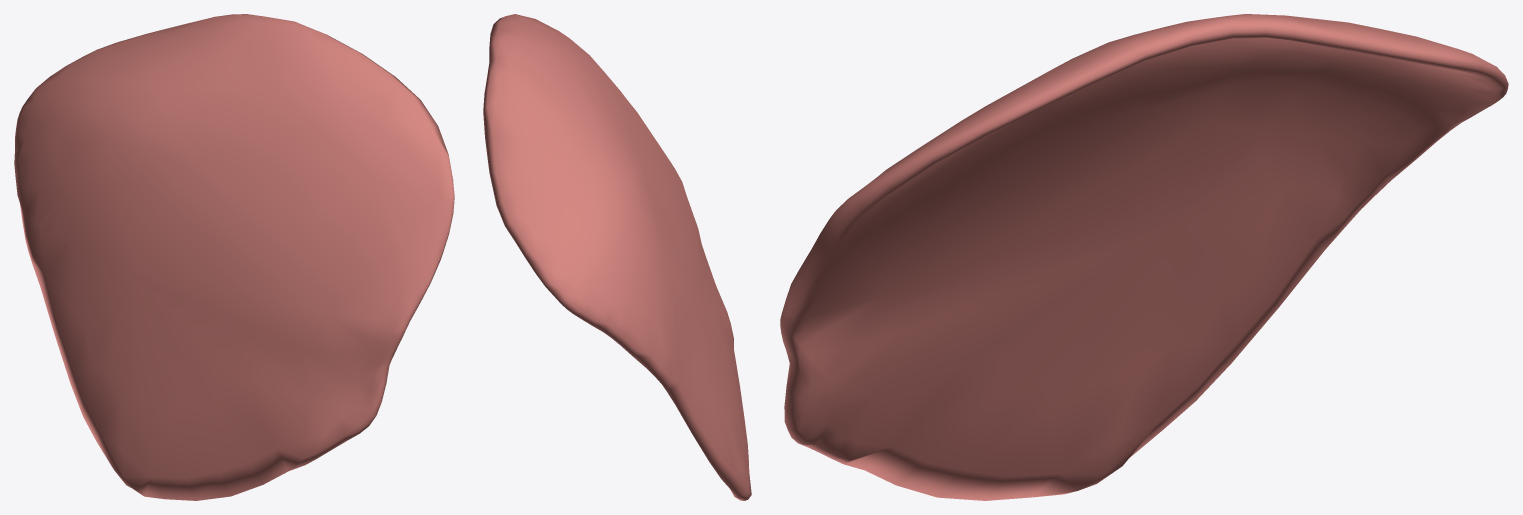
3 views of the same model, side by side, from view 1: azimuth 30°, elevation 25°; view 2: azimuth 150°, elevation 25°; view 3: azimuth 270°, elevation 25° (orthographic). The views are drawn at different scales.
Visible parts, largest first — view 1: ZA_9136d4e6b1dc09a9; view 2: ZA_9136d4e6b1dc09a9; view 3: ZA_9136d4e6b1dc09a9.
Part boxes in pixels (left/top/right/bottom): ZA_9136d4e6b1dc09a9: left=14, top=14, right=454, bottom=500; ZA_9136d4e6b1dc09a9: left=483, top=14, right=751, bottom=500; ZA_9136d4e6b1dc09a9: left=780, top=14, right=1508, bottom=500.
Bounding box in the file's own units: 0.0107 × 0.0152 × 0.0165.
